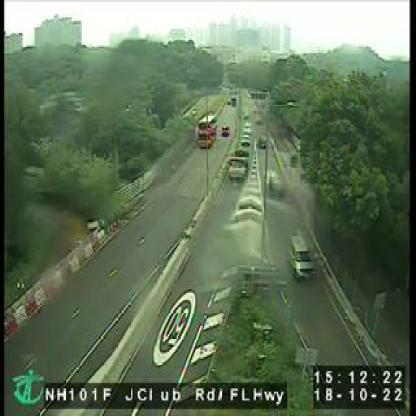Bus: (197, 114, 218, 150)
Car: (286, 238, 314, 282), (219, 122, 231, 138), (257, 136, 268, 152)
Truck: (226, 148, 249, 183)
